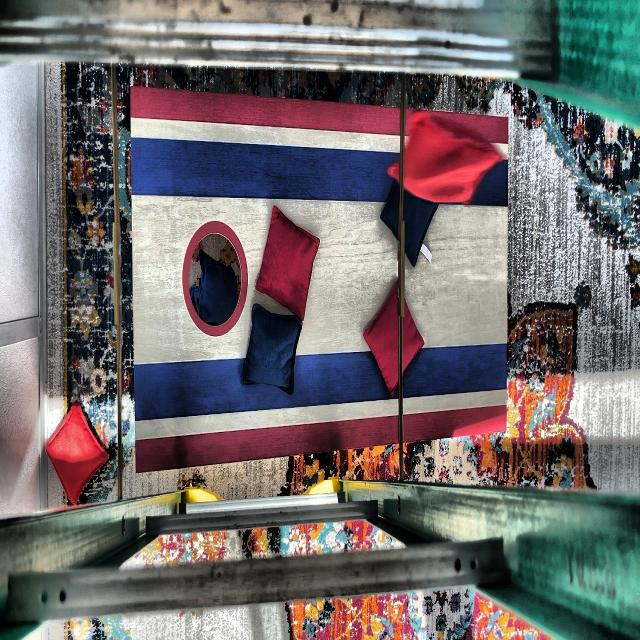blue-bean-bag: (379, 149, 439, 266), (242, 311, 302, 397)
blue-bean-bag-in-hole: (196, 248, 238, 322), (189, 284, 226, 327)
board: (135, 120, 506, 432)
hole: (182, 221, 249, 337)
red-bean-bag: (386, 114, 504, 206), (256, 205, 320, 321), (362, 281, 425, 397), (45, 399, 109, 504)
